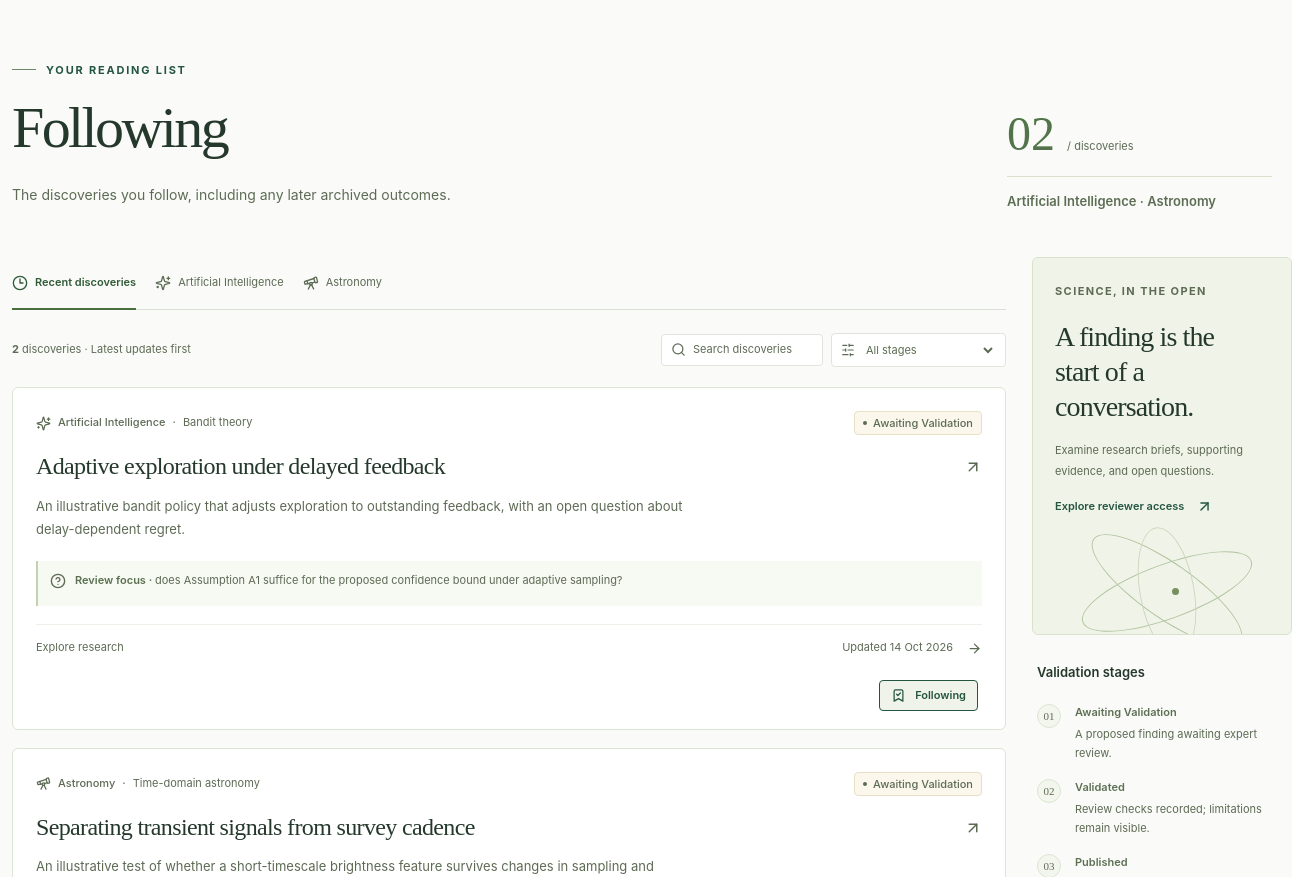
Test: Following research › shows only followed discoveries in newest-update order and retains field filtering
Check: the heading "Adaptive exploration under delayed feedback" is shown, box [36,452,982,483]
Check: the heading "Separating transient signals from survey cadence" is shown, box [36,812,982,843]
Click the tab "Astronomy" at (342, 283), box [303,257,382,309]
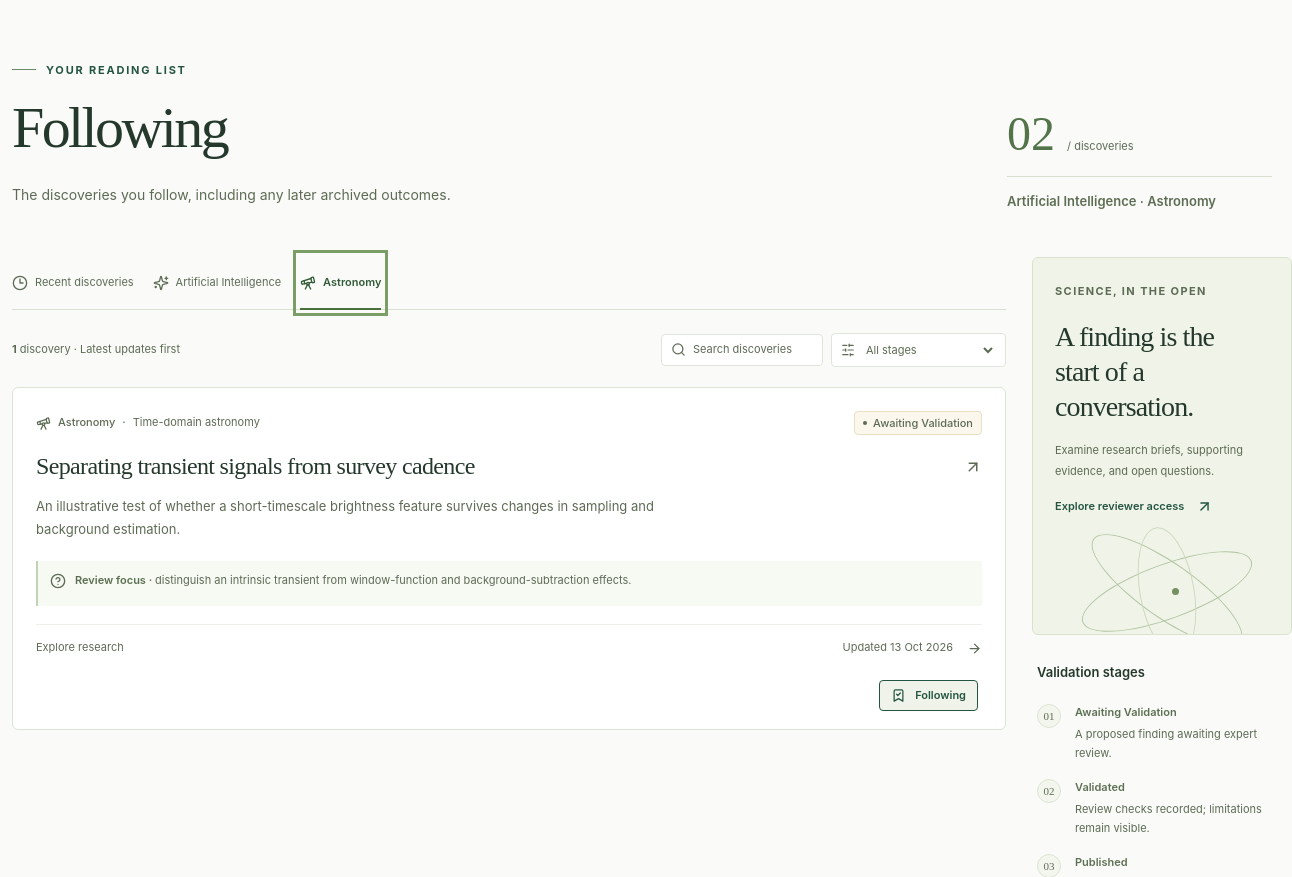
Check: the link "Adaptive exploration under delayed feedback" is gone
